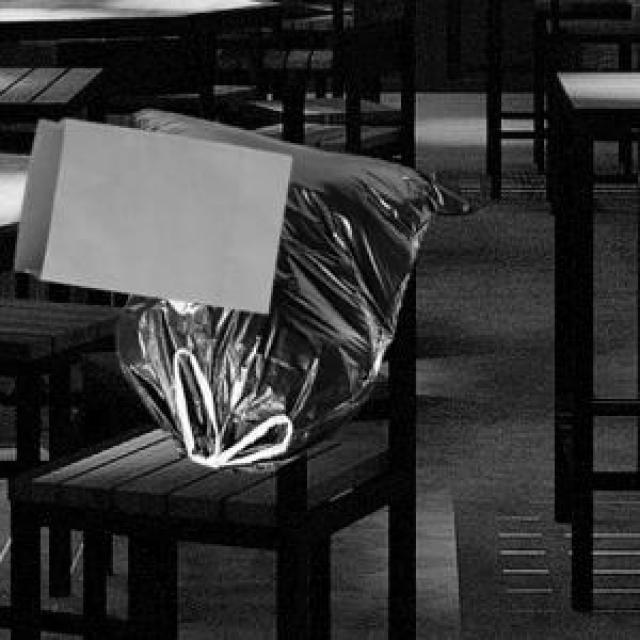miscellaneous trash: (111, 105, 478, 469)
paper: (11, 115, 288, 309)
